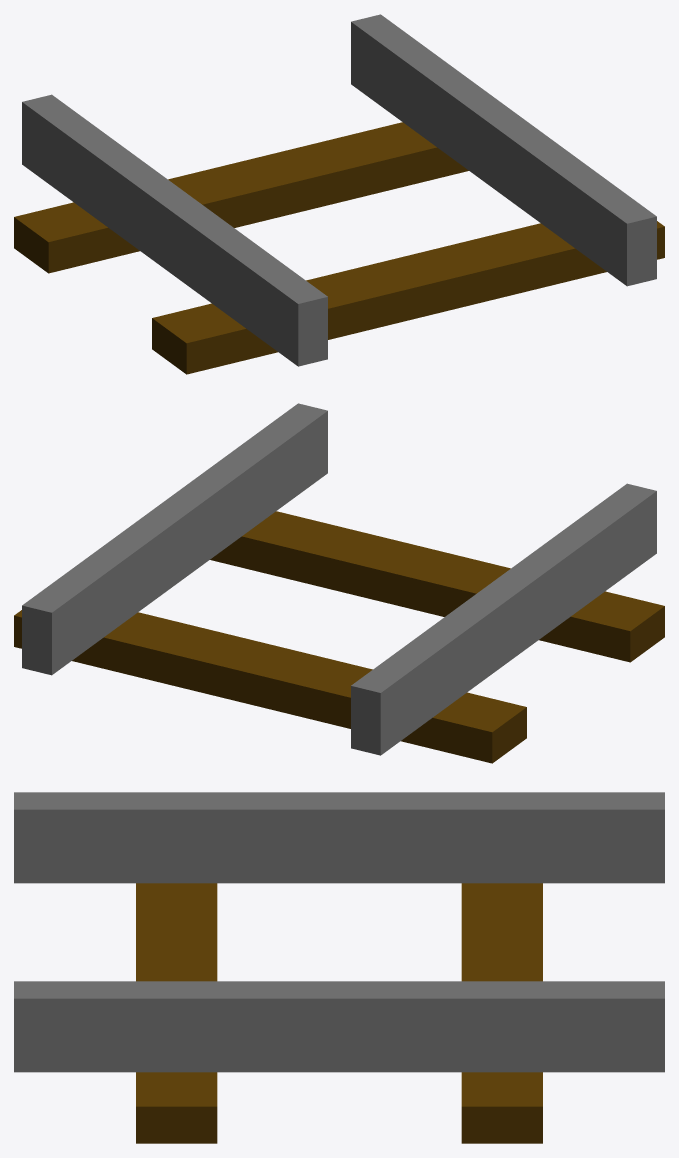
Rendered from track_straight.gltf.
3 views of the same model, one above another, from view 1: azimuth 30°, elevation 25°; view 2: azimuth 150°, elevation 25°; view 3: azimuth 270°, elevation 25° (orthographic). The views are drawn at different scales.
Visible parts, largest first — view 1: cube; view 2: cube; view 3: cube.
Part boxes in pixels (x1,y1,x2,y2): cube: (14, 14, 664, 374); cube: (14, 403, 664, 763); cube: (14, 792, 664, 1143).
Bounding box in the file's own units: 10 × 1.88 × 10.
1 material, 1 textured.
